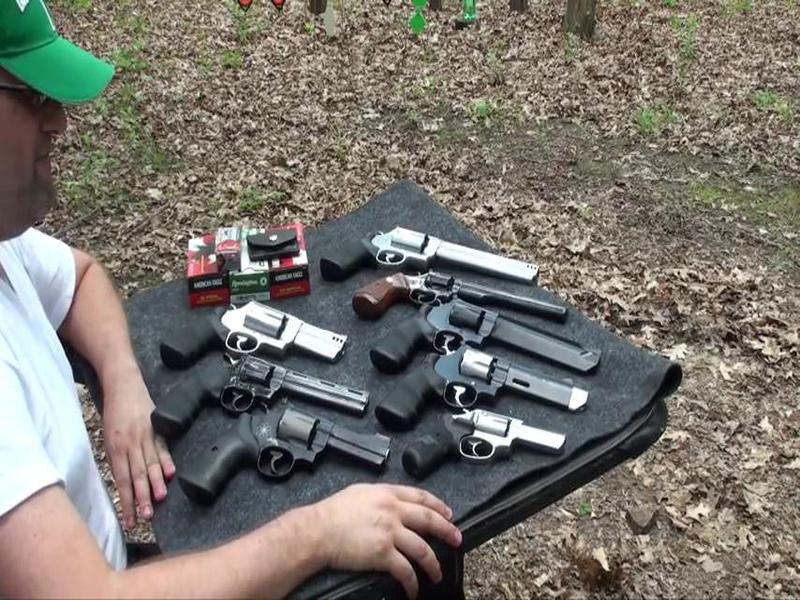Revolver: (366, 341, 586, 429)
